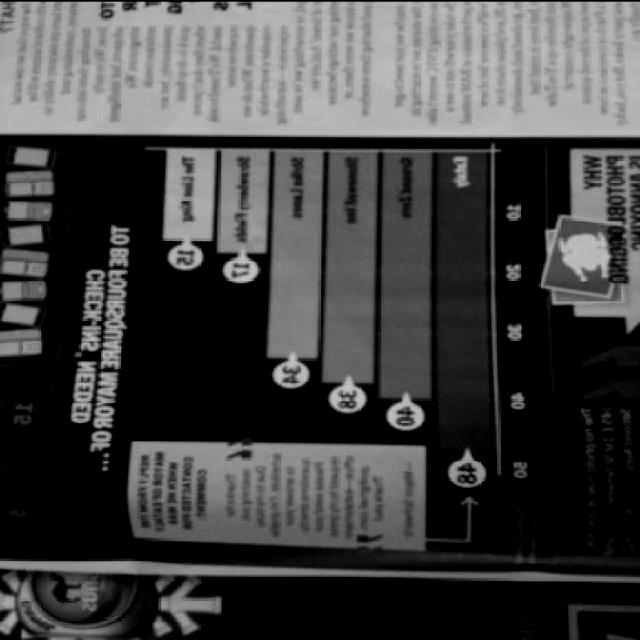fake: (0, 245, 52, 276), (2, 169, 58, 197), (0, 298, 49, 327), (6, 143, 60, 168), (0, 221, 52, 246), (0, 276, 48, 302), (0, 327, 42, 356), (0, 202, 54, 220)
